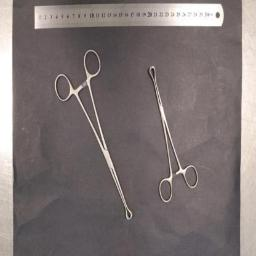Babcock Tissue Forceps: (150, 66, 198, 204)
